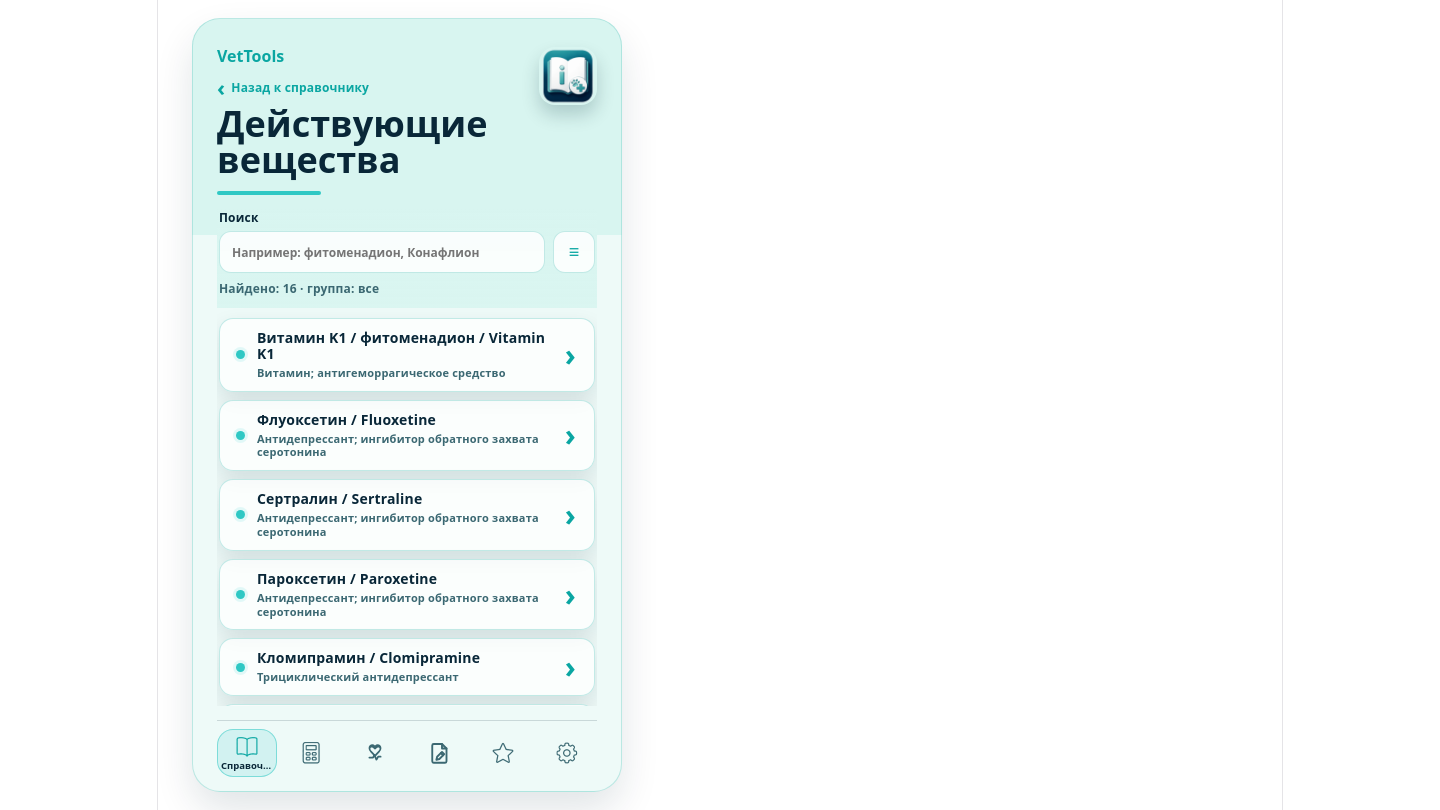
Test case: ActiveSubstancesReferencePage › opens active substance card as a separate page
Click the link named "Витамин K1 / фитоменадион. Открыть карточку действующего вещества": (401, 337) [219,318,595,392]
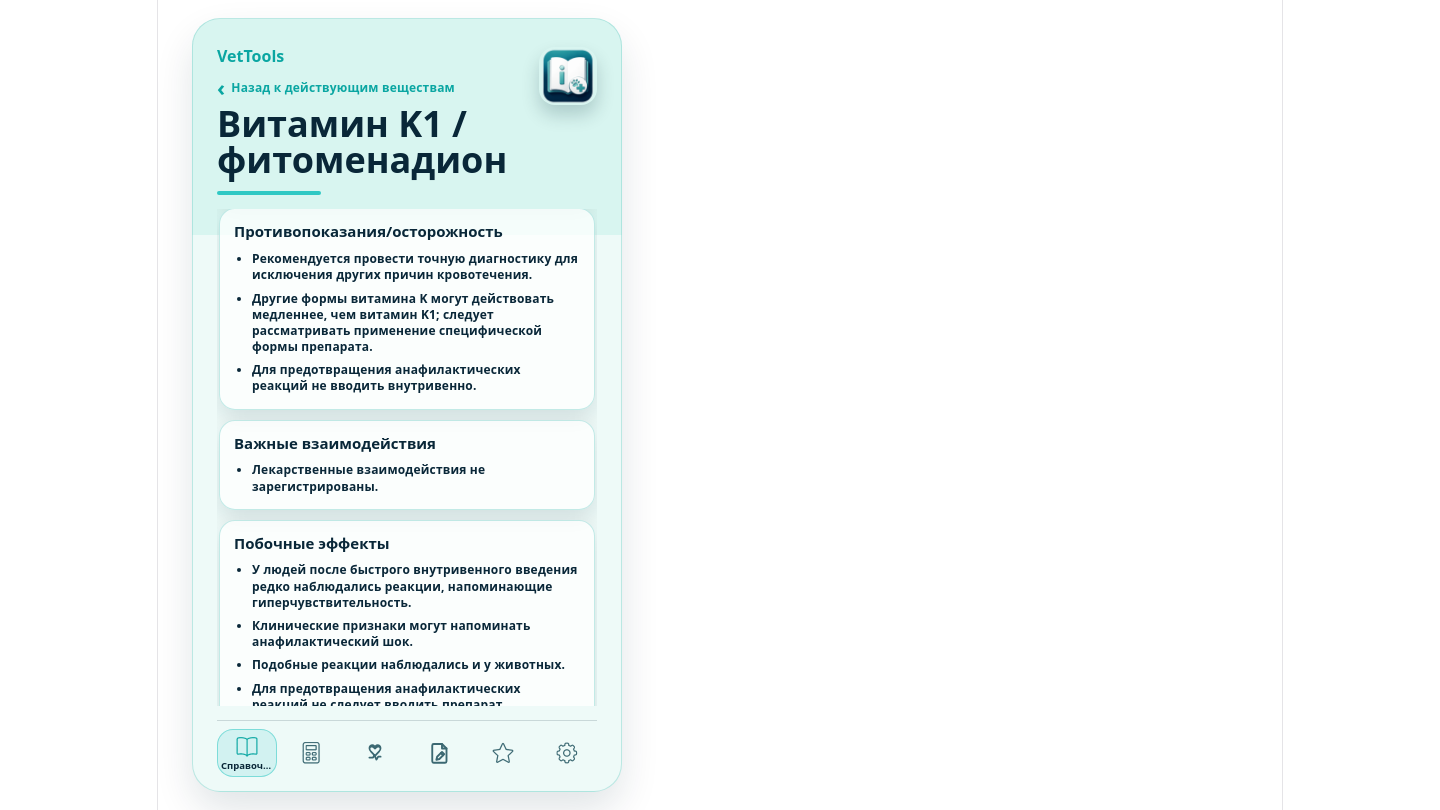
Expected: the heading "Витамин K1 / фитоменадион" is shown, [217,106,467,195]
Expected: the heading "Важные взаимодействия" is shown, [234,433,436,453]
